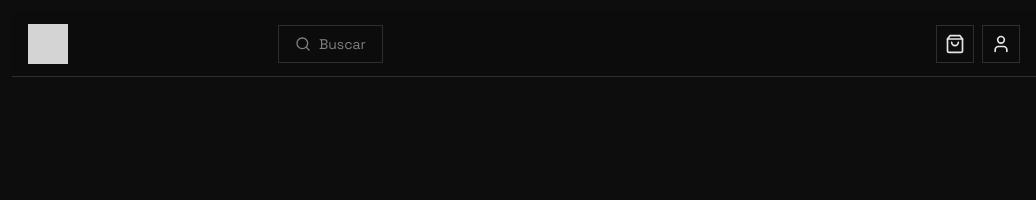
it: Header search › navega para a página do produto ao clicar na sugestão
Click the button "Buscar": point(330, 44) left=278, top=25, right=383, bottom=63
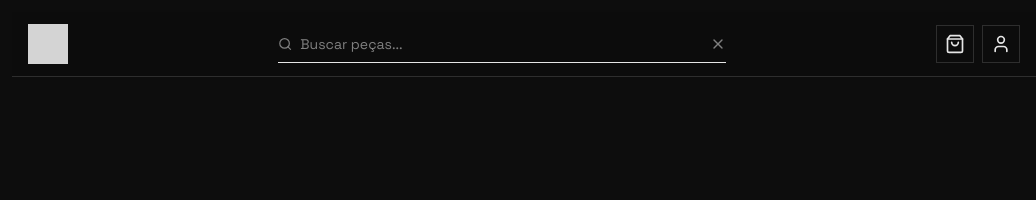
In the field with placeholder "Buscar peças...": point(501, 44) left=300, top=26, right=702, bottom=62, type "tênis"
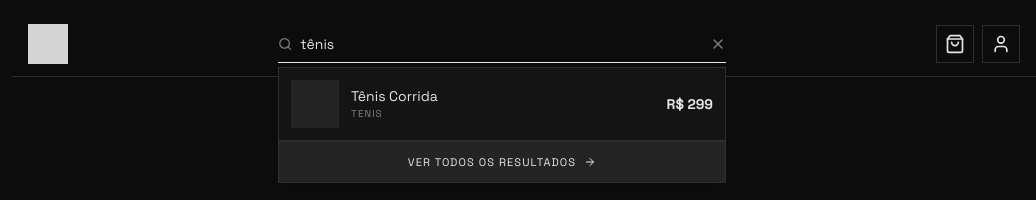
Click the text "Tênis Corrida": point(394, 96) left=351, top=87, right=438, bottom=105
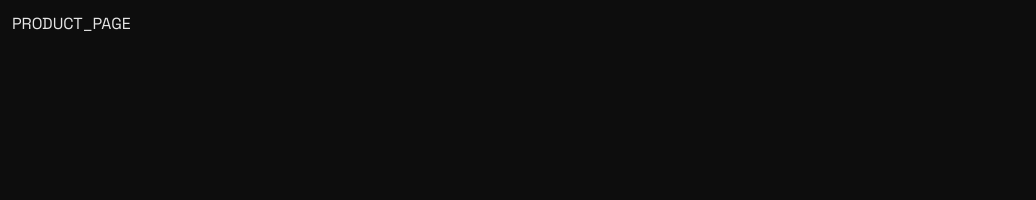
Now the text "PRODUCT_PAGE" is shown, box left=12, top=13, right=131, bottom=34
